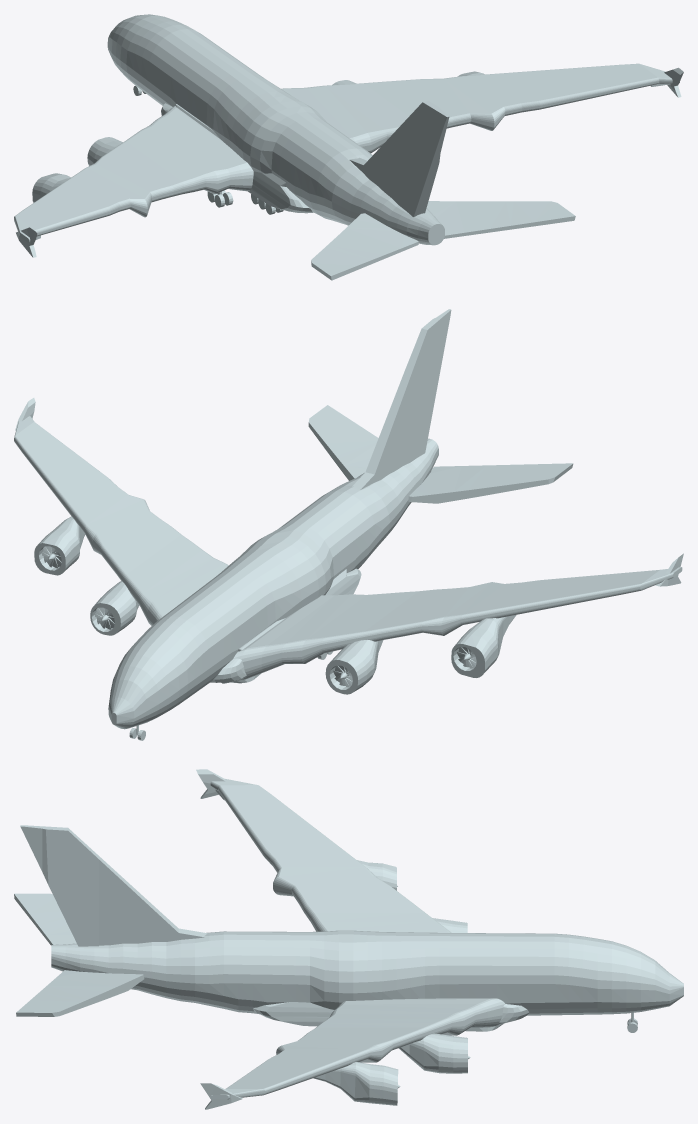
The picture shows the model from 3 angles, top to bottom: view 1: azimuth 30°, elevation 25°; view 2: azimuth 150°, elevation 25°; view 3: azimuth 270°, elevation 25°; orthographic projection.
Visible parts, largest first — view 1: Aircraft visual hull, Landing gear; view 2: Aircraft visual hull; view 3: Aircraft visual hull.
Boxes of the visible parts, <box> form: Aircraft visual hull: <box>14,14,683,280</box>; Landing gear: <box>133,85,283,214</box>; Aircraft visual hull: <box>14,309,683,729</box>; Aircraft visual hull: <box>14,769,683,1109</box>.
Size of the model in its own units: 80.56 by 24.18 by 72.43.
